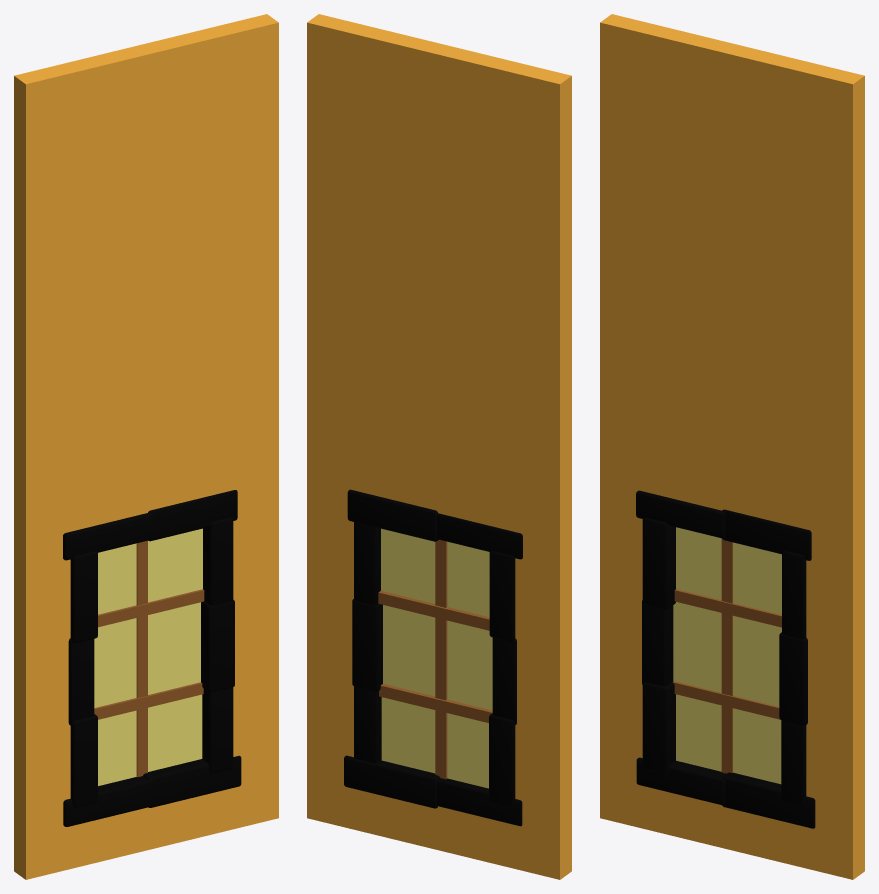
The model's file is Wall H 3.fbx.
3 views of the same model, side by side, from view 1: azimuth 30°, elevation 25°; view 2: azimuth 150°, elevation 25°; view 3: azimuth 330°, elevation 25° (orthographic).
Parts seen in each view (by area): view 1: Wall H 3; view 2: Wall H 3; view 3: Wall H 3.
Boxes of the visible parts, x1,y1,x2,y2 form: Wall H 3: (14, 14, 278, 879); Wall H 3: (307, 14, 571, 879); Wall H 3: (600, 14, 864, 879).
Bounding box in the file's own units: 249 × 747 × 28.48.
Materials: 1 (1 with a texture image).
